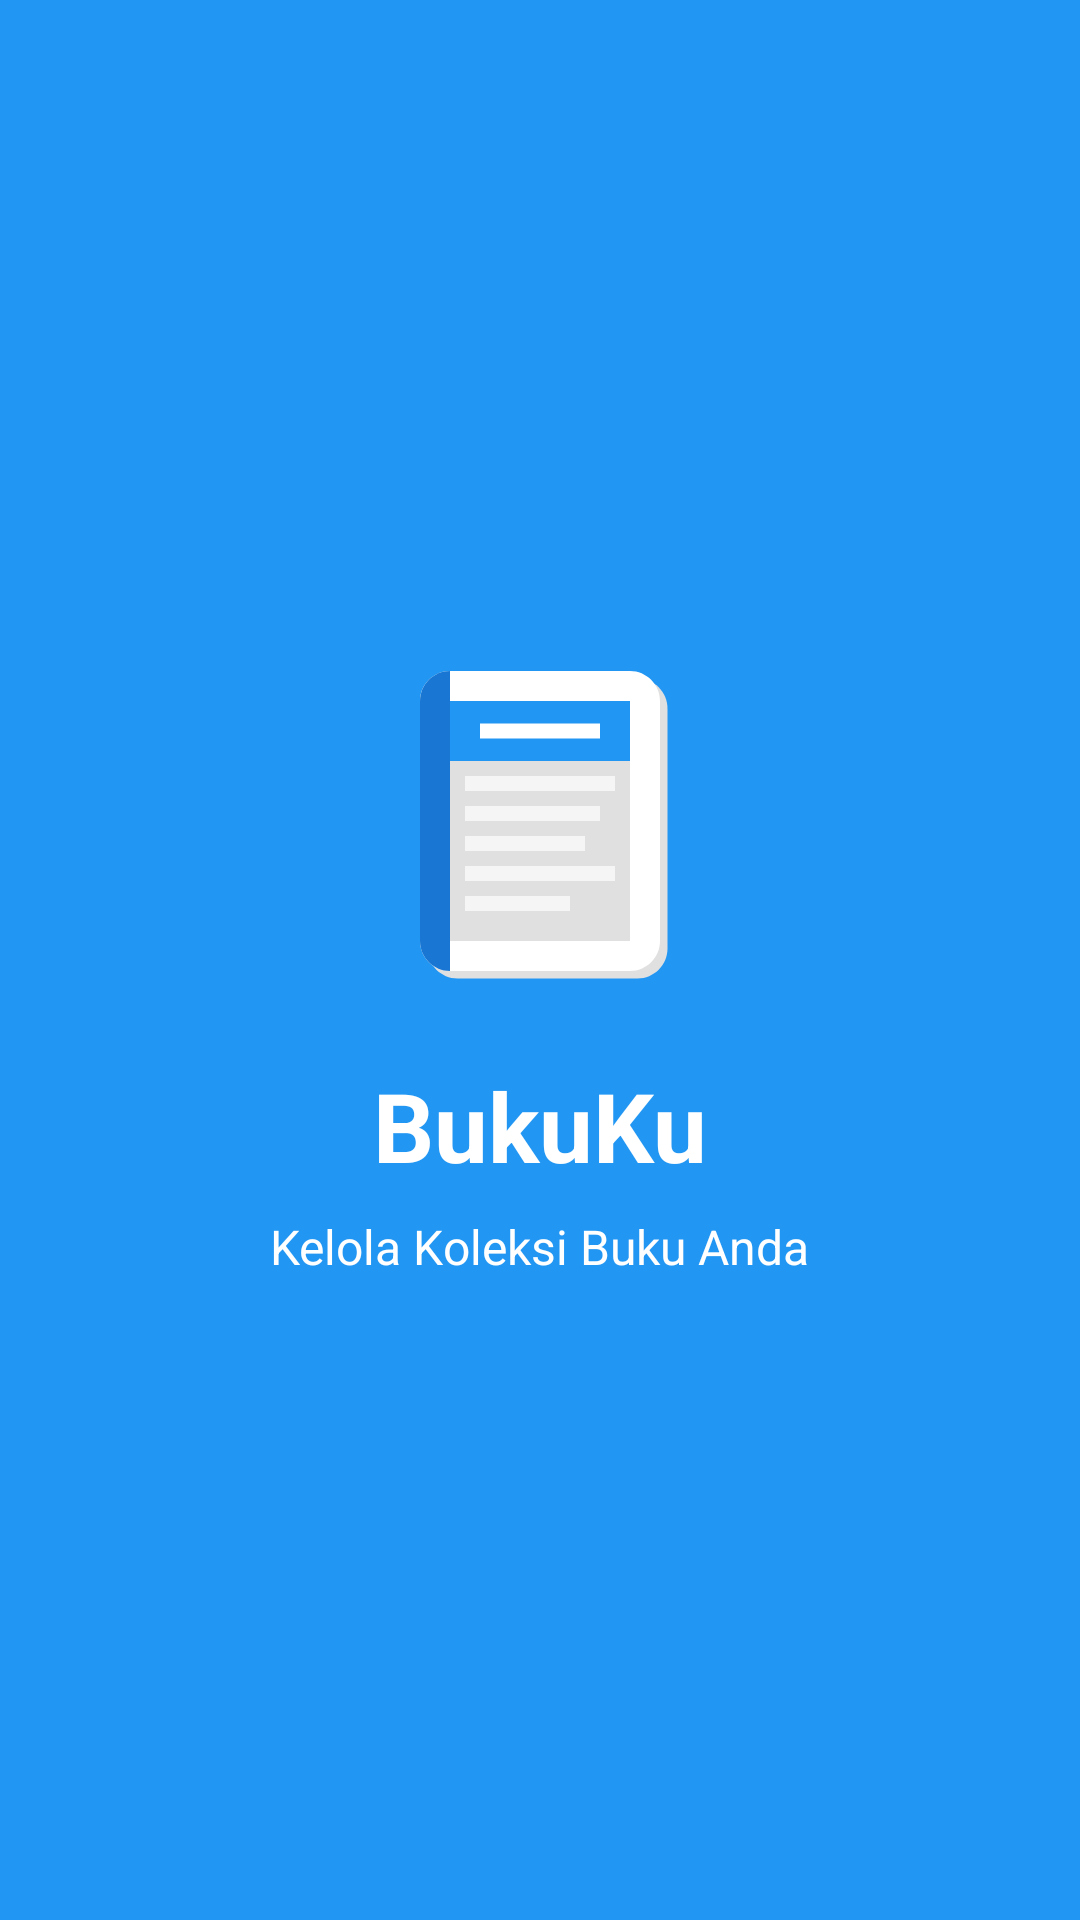

Named icons in this screenshot (1080w x 1920h) and their centers, [x,y]:
book: [544,825]
